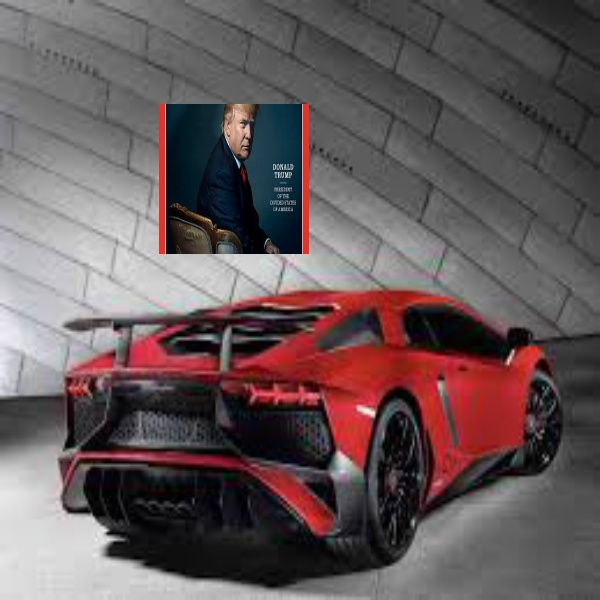time_cover: (151, 87, 315, 256)
